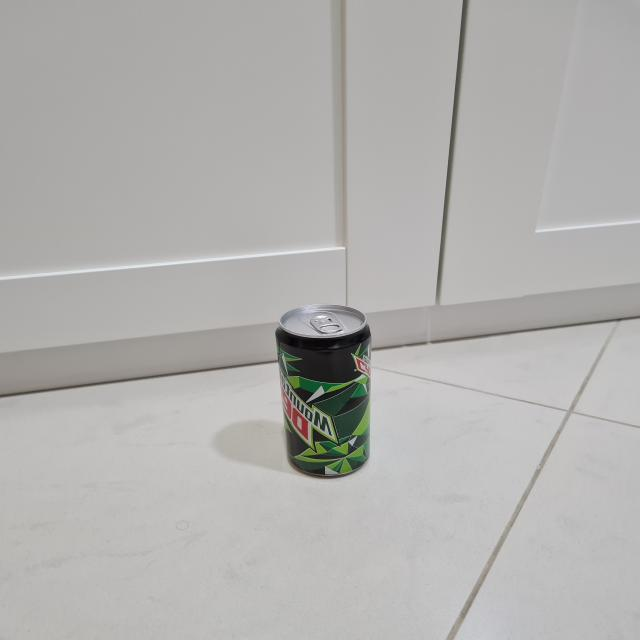can: (269, 302, 379, 480)
